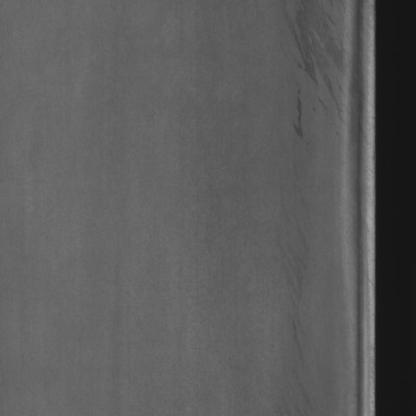water_spot: (271, 0, 345, 150), (264, 202, 314, 379)
